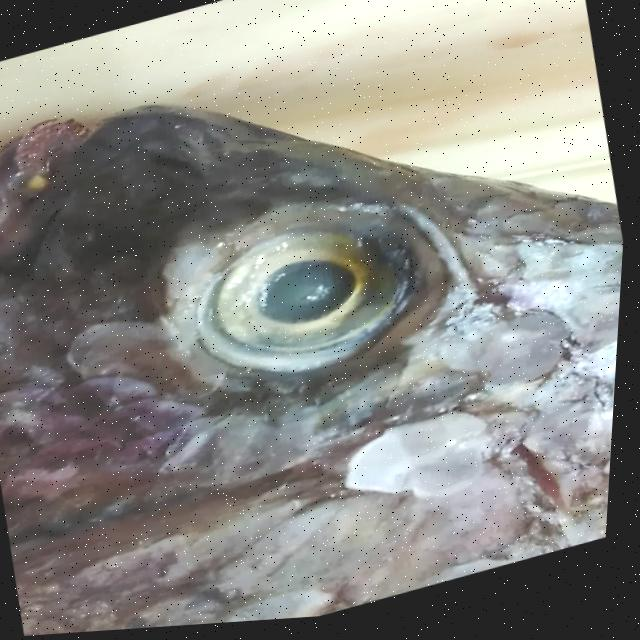Non-Fresh: (148, 164, 467, 451)
